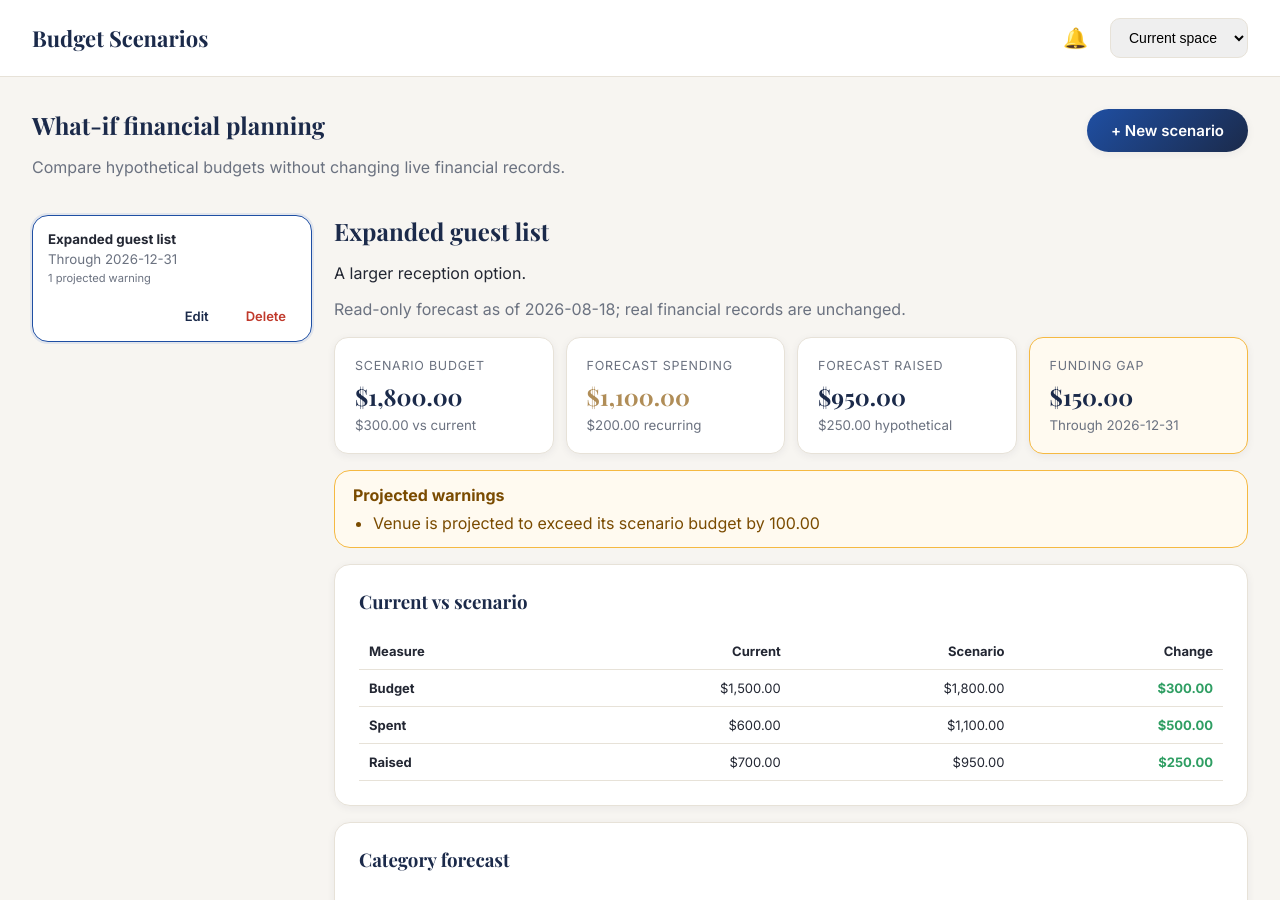
it: BudgetScenarios editor and write controls › opens an accessible create editor and cancels it
Check: the text "A larger reception option." is shown, box [334, 263, 526, 283]
Click the button "+ New scenario" at (1168, 130), box [1087, 109, 1248, 152]
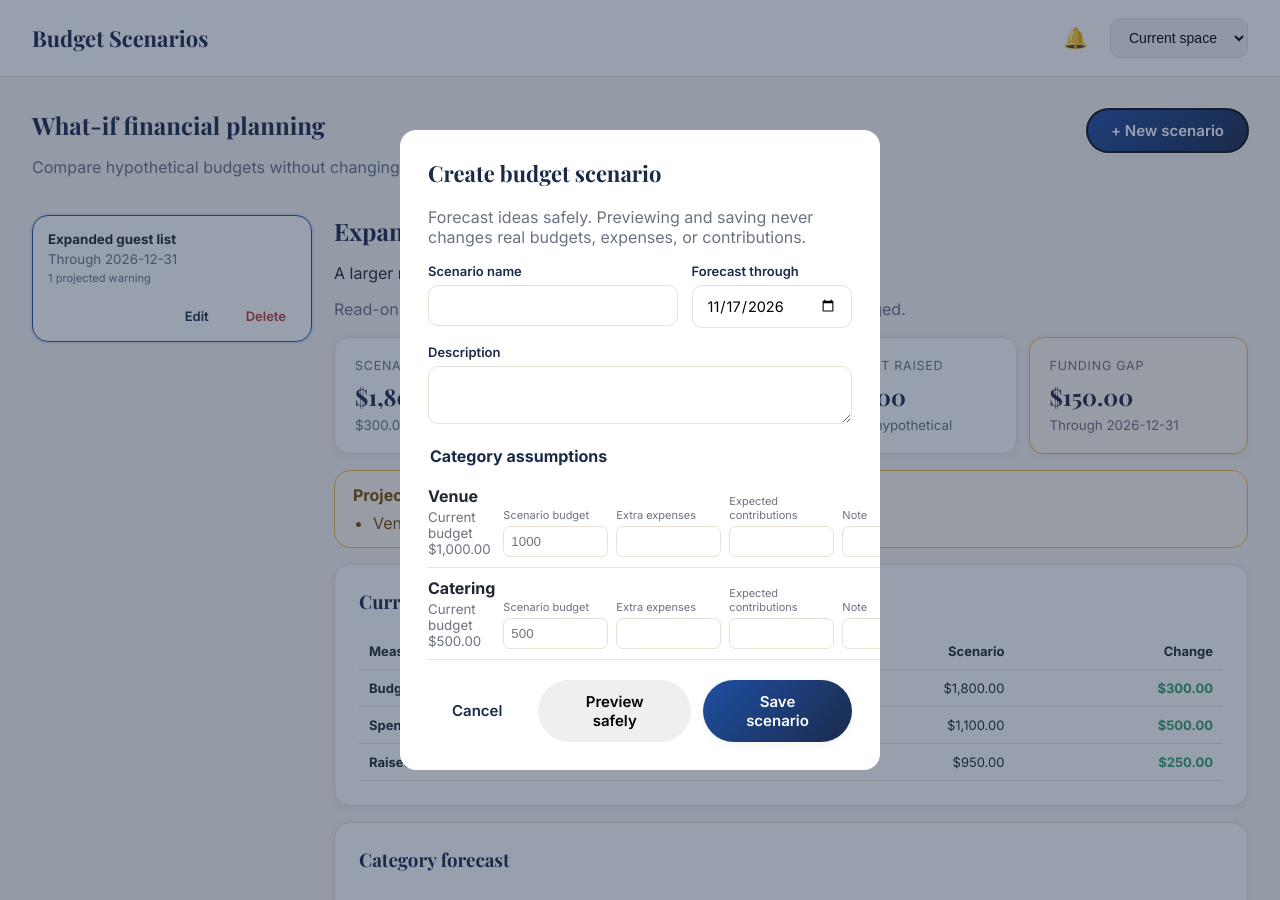
Check: the text "never changes real budgets" is shown, box [428, 207, 813, 247]
Click the button "Cancel" at (477, 711), box [428, 680, 526, 742]
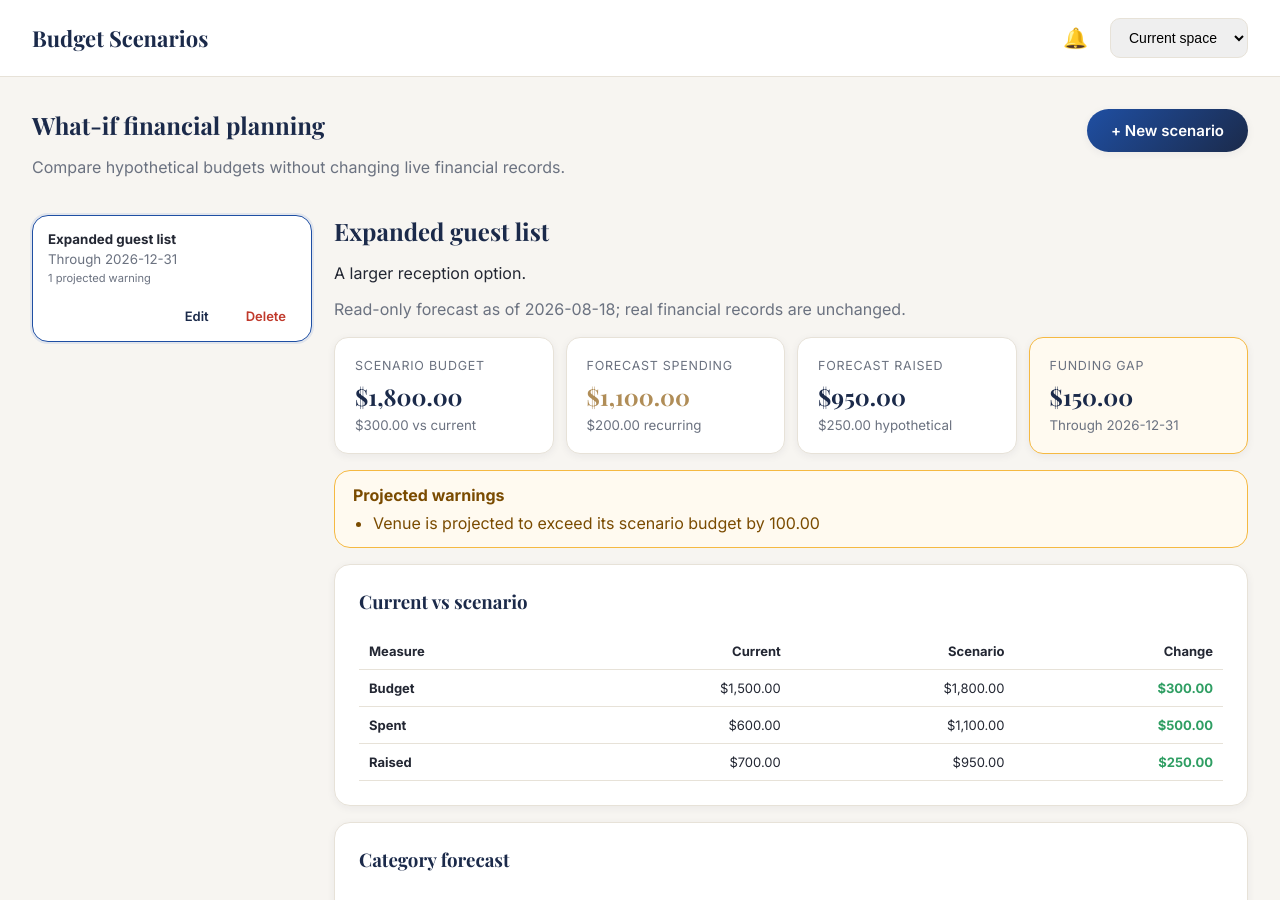
Check: the dialog is gone
